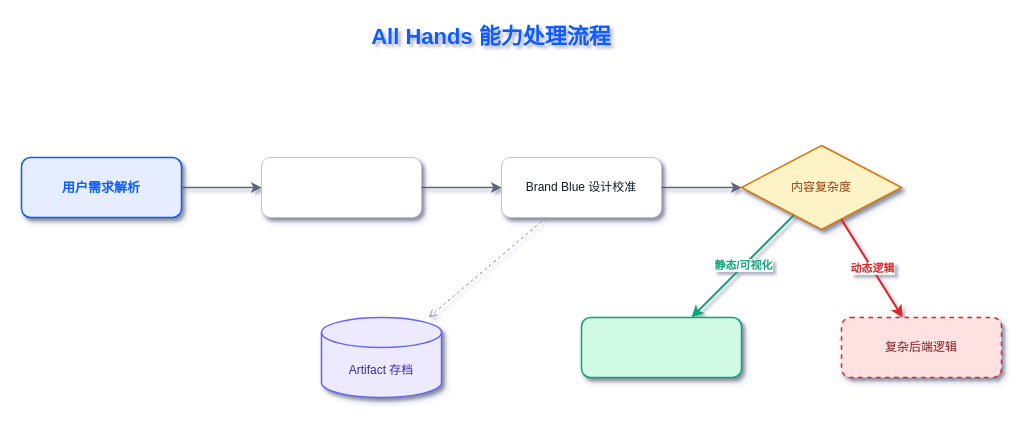
Some shapes in this 1032 by 428 pixel diagram are drawn without their labels. The centre of each missing label's shape, as x and y in pixels:
"HTML / Drawio 渲染" belongs at point (662, 348).
"web_research / file_writing" belongs at point (342, 188).
